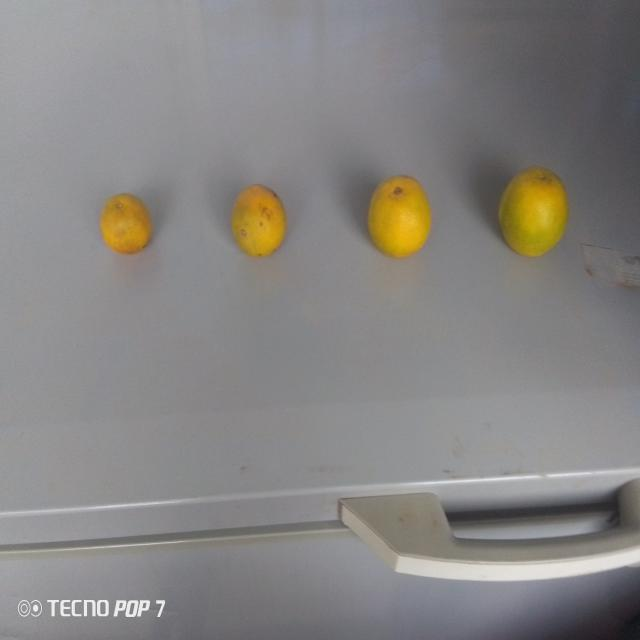Ripe orange: (489, 157, 567, 267), (358, 163, 436, 264), (220, 179, 295, 265), (97, 185, 164, 258)
